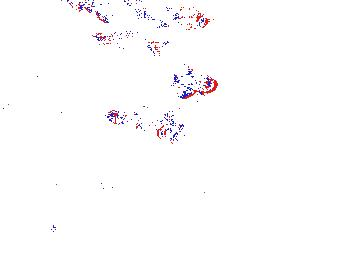X-ray fish: (309, 206, 323, 229)
red belly glassfish: (143, 4, 210, 33), (156, 120, 183, 143), (105, 28, 138, 43)
redtail glassfish: (90, 31, 169, 61), (104, 104, 176, 133), (167, 63, 222, 100), (61, 1, 138, 17)
